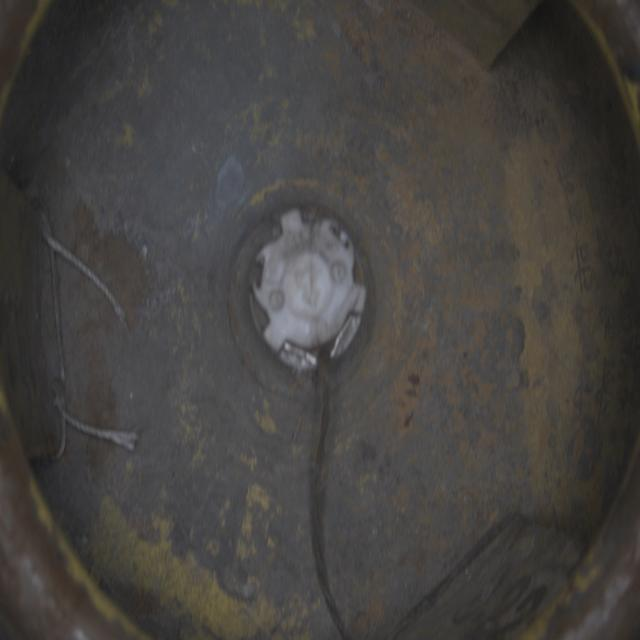Cap: (251, 208, 369, 374)
